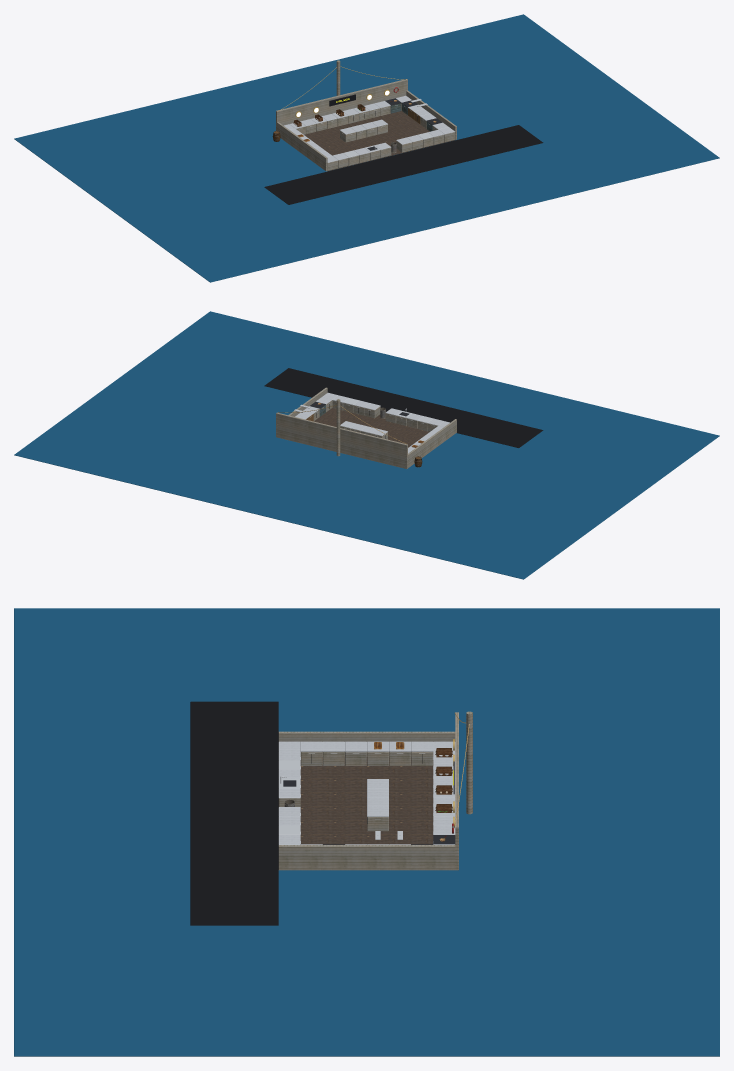
The model's file is kapal.glb.
The picture shows the model from 3 angles, top to bottom: view 1: azimuth 30°, elevation 25°; view 2: azimuth 150°, elevation 25°; view 3: azimuth 270°, elevation 25°; orthographic projection. The views are drawn at different scales.
Visible parts, largest first — view 1: statis; view 2: statis; view 3: statis.
Boxes of the visible parts, bbox=[...] form: statis: bbox=[14, 14, 719, 282]; statis: bbox=[14, 311, 719, 579]; statis: bbox=[14, 608, 719, 1056].
Size of the model in its own units: 57.6 by 7.2 by 38.4.
28 materials, 16 textured.
